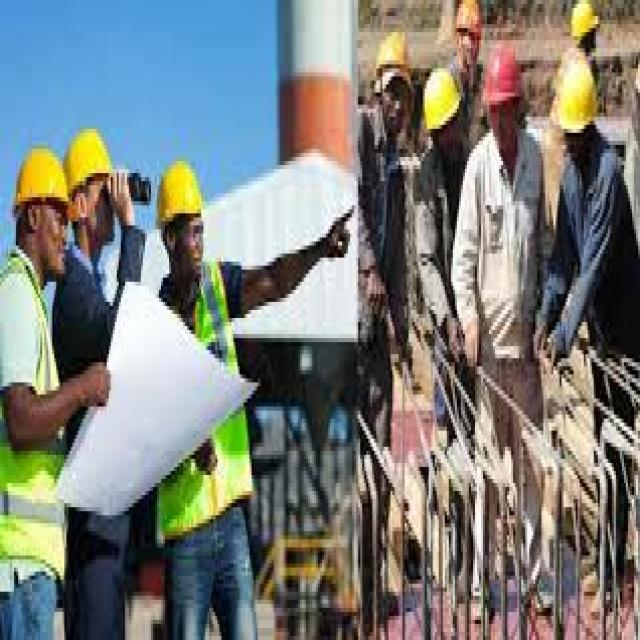reflective_jacket: (147, 261, 255, 547), (0, 257, 70, 595)
safety_helmet: (5, 136, 72, 221), (547, 48, 605, 144), (152, 148, 211, 241), (476, 32, 531, 124), (366, 16, 420, 108), (62, 116, 118, 201), (416, 56, 467, 148), (563, 0, 603, 60), (448, 0, 489, 44)
